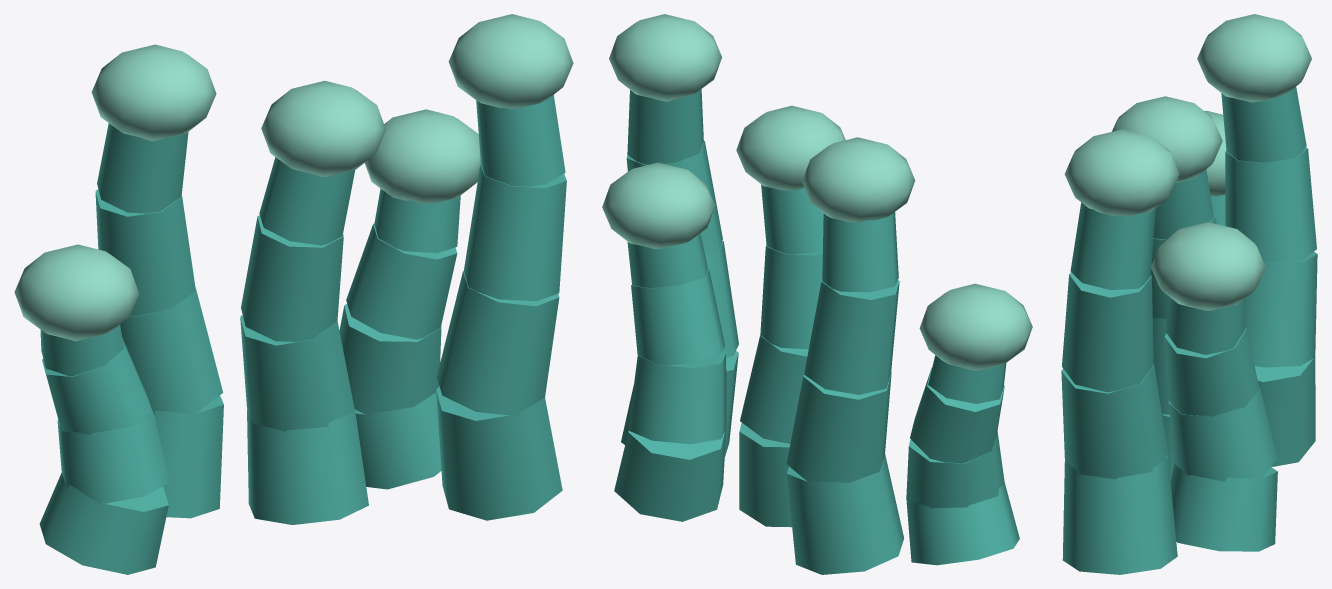
File: 04-pillar-colony.glb
The picture shows the model from 3 angles, left to right: view 1: azimuth 30°, elevation 25°; view 2: azimuth 150°, elevation 25°; view 3: azimuth 270°, elevation 25°; orthographic projection. The views are drawn at different scales.
Bounding box in the file's own units: 3.2 × 2.94 × 1.55.
